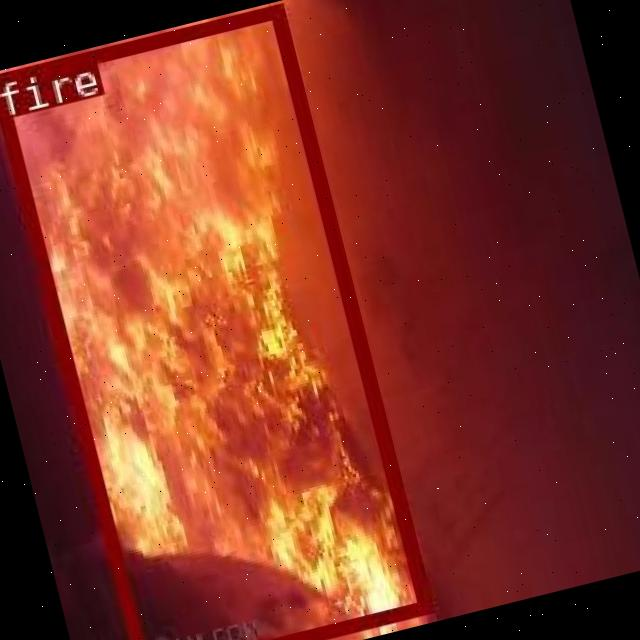fire: (0, 3, 427, 640)
